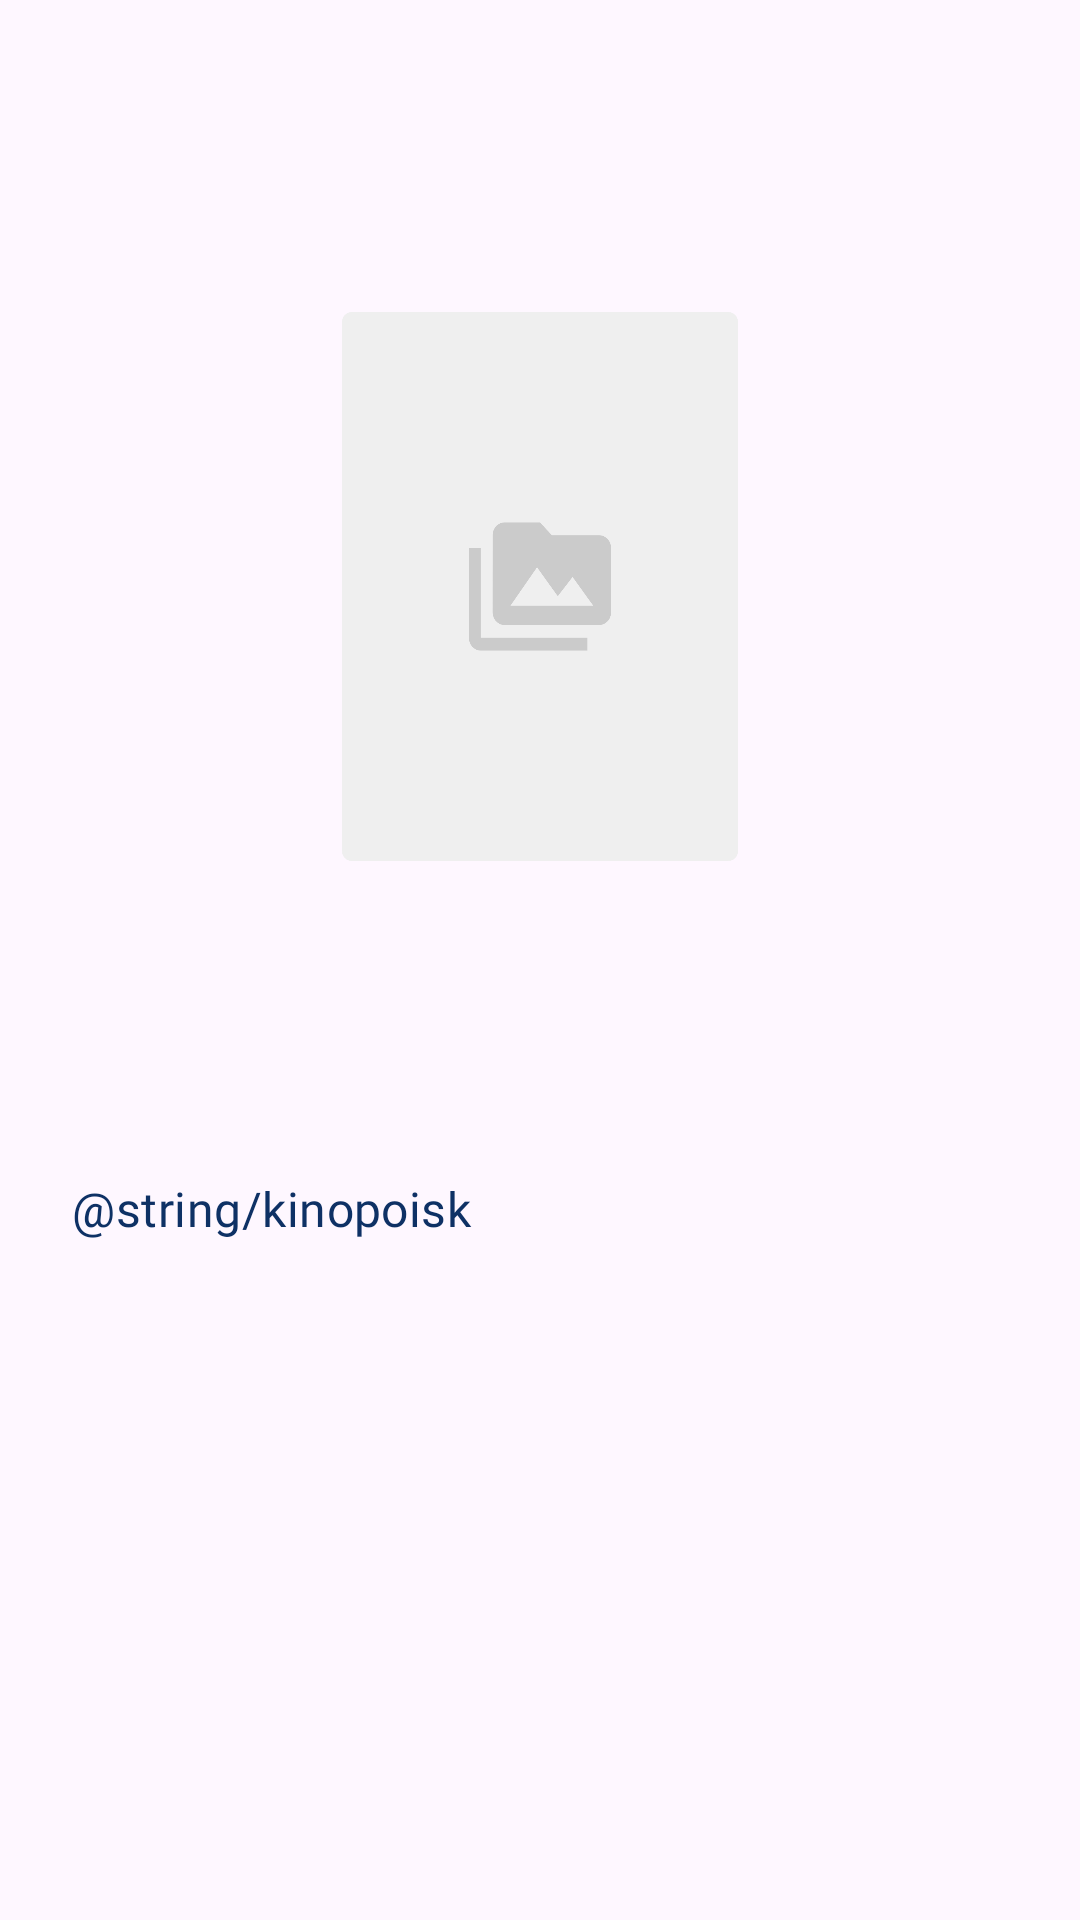

Named icons in this screenshot (1080*1920) and their bounding boxes, rect(x1, y1, x2, y2):
Film image: rect(469, 522, 611, 651)
